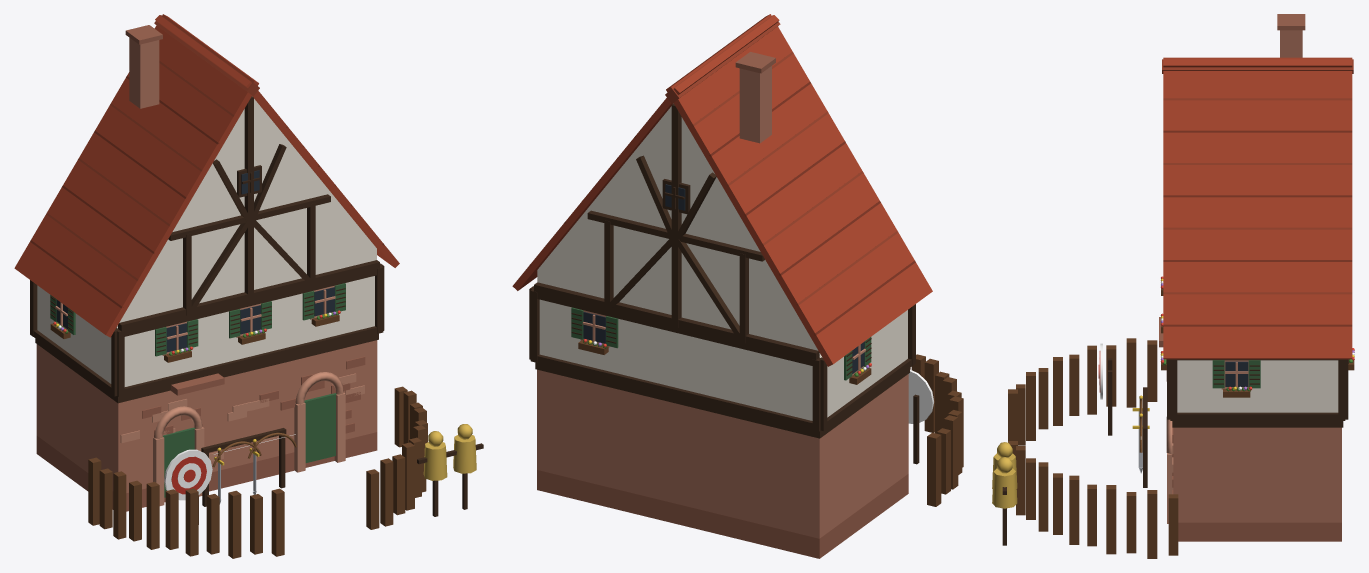
Rendered from kaserne.glb.
3 views of the same model, side by side, from view 1: azimuth 30°, elevation 25°; view 2: azimuth 150°, elevation 25°; view 3: azimuth 270°, elevation 25° (orthographic). The views are drawn at different scales.
Size of the model in its own units: 5.34 by 6.86 by 5.16.
